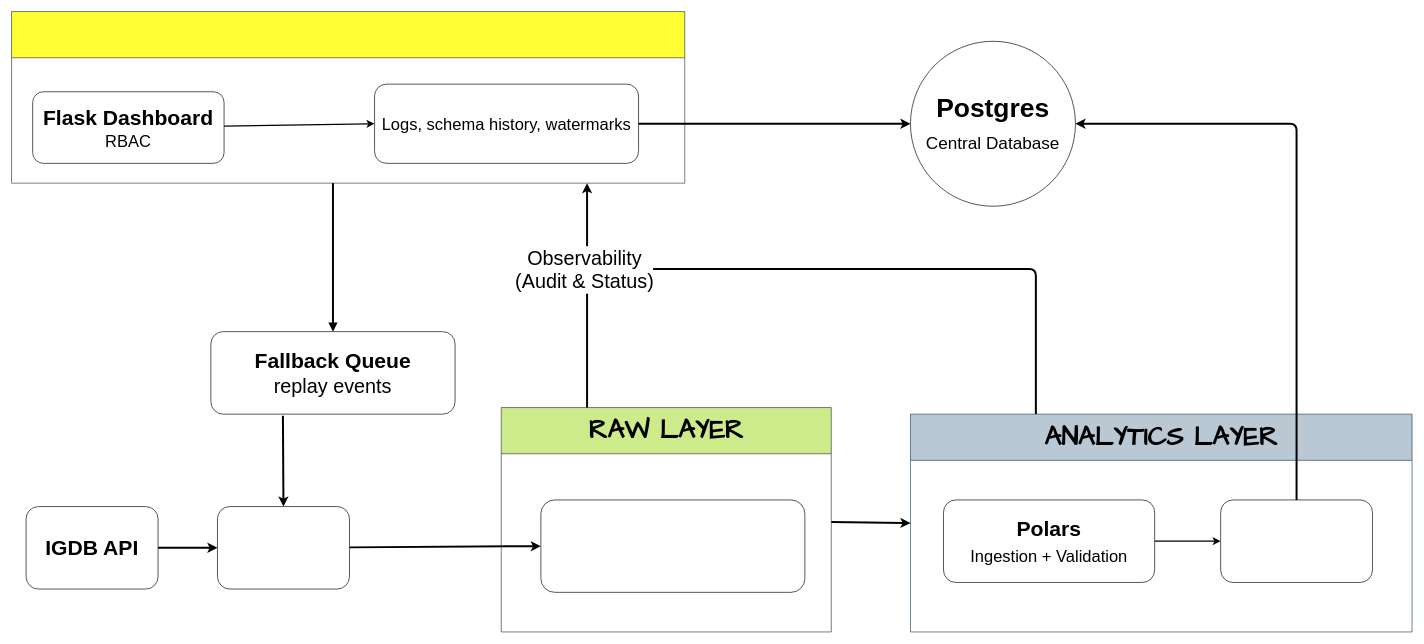
This 1424x644 diagram has some shape labels left out. Each missing label, with the box of its shape:
Analytics Table: (1220, 499, 1372, 582)
Azure Data LakeStorage Gen2 With hive partitioning: (540, 499, 805, 592)
GOVERNANCE LAYER: (11, 11, 685, 183)
Ingestion Worker: (217, 506, 349, 589)
